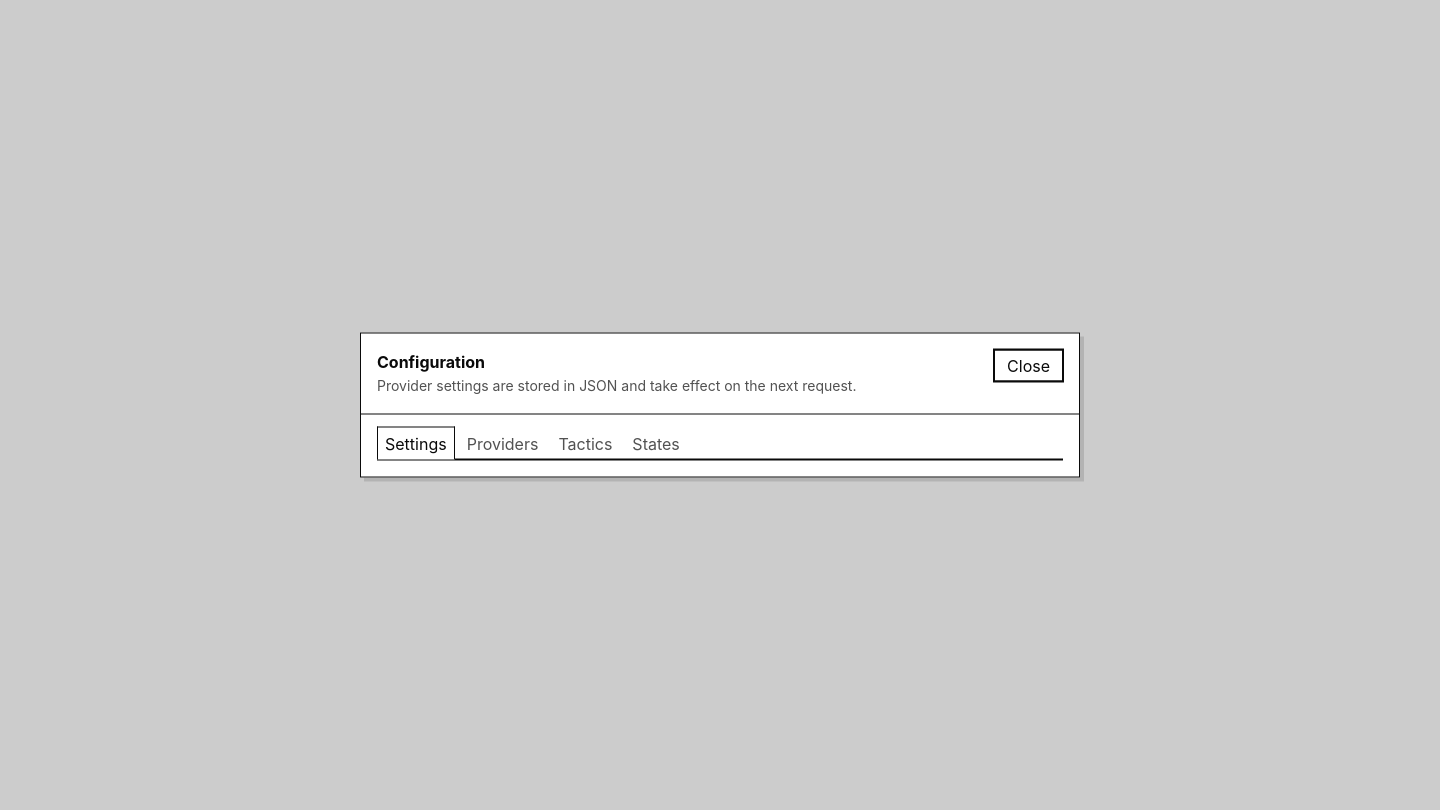
Scenario: web components › renders empty provider and tactic library states in configuration
Click the tab "Providers". click: click(503, 443)
box: x1=459 y1=426 x2=546 y2=460
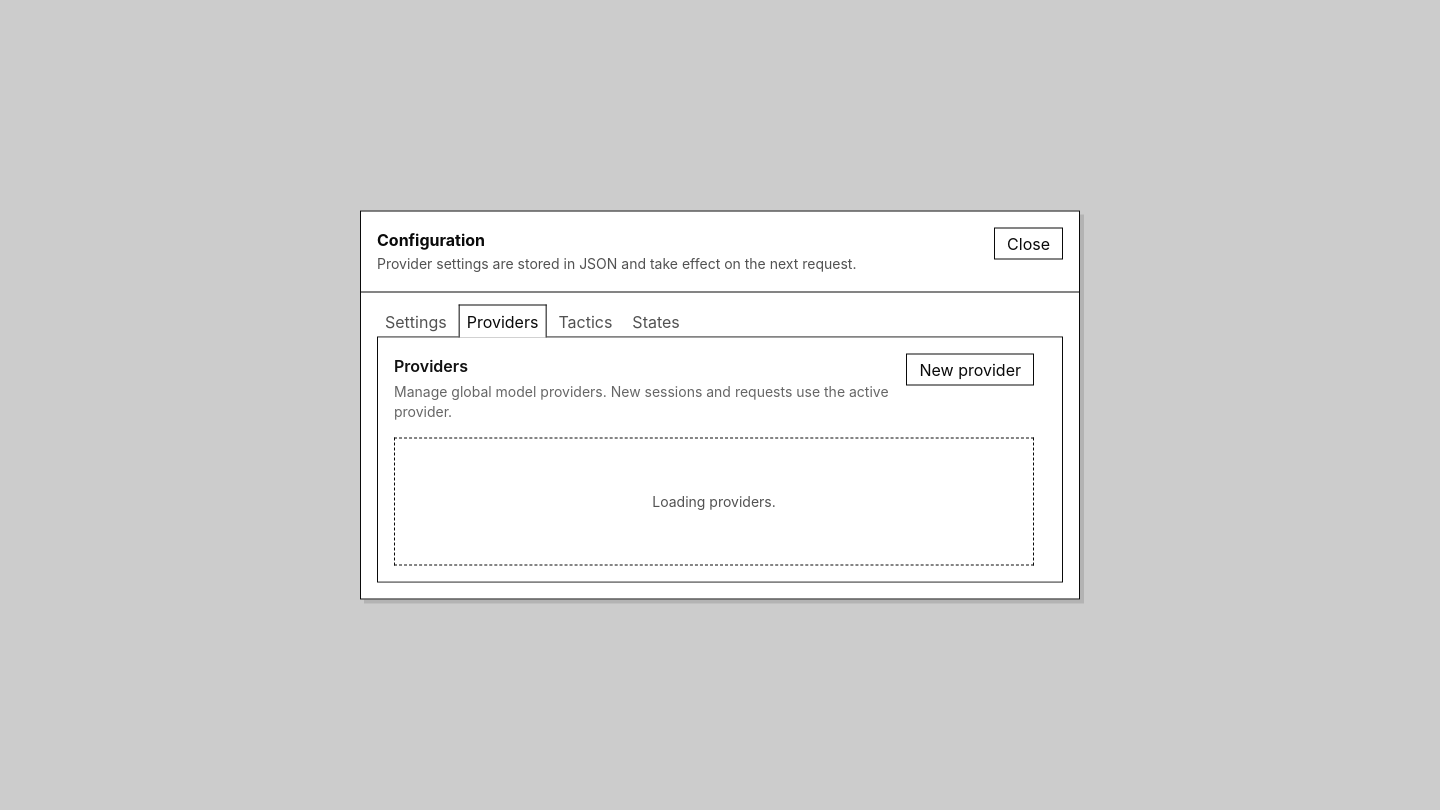
Now the text "Loading providers." is shown, box x1=394 y1=438 x2=1034 y2=566
Click the tab "Tactics". click: click(585, 321)
box: x1=550 y1=304 x2=620 y2=338
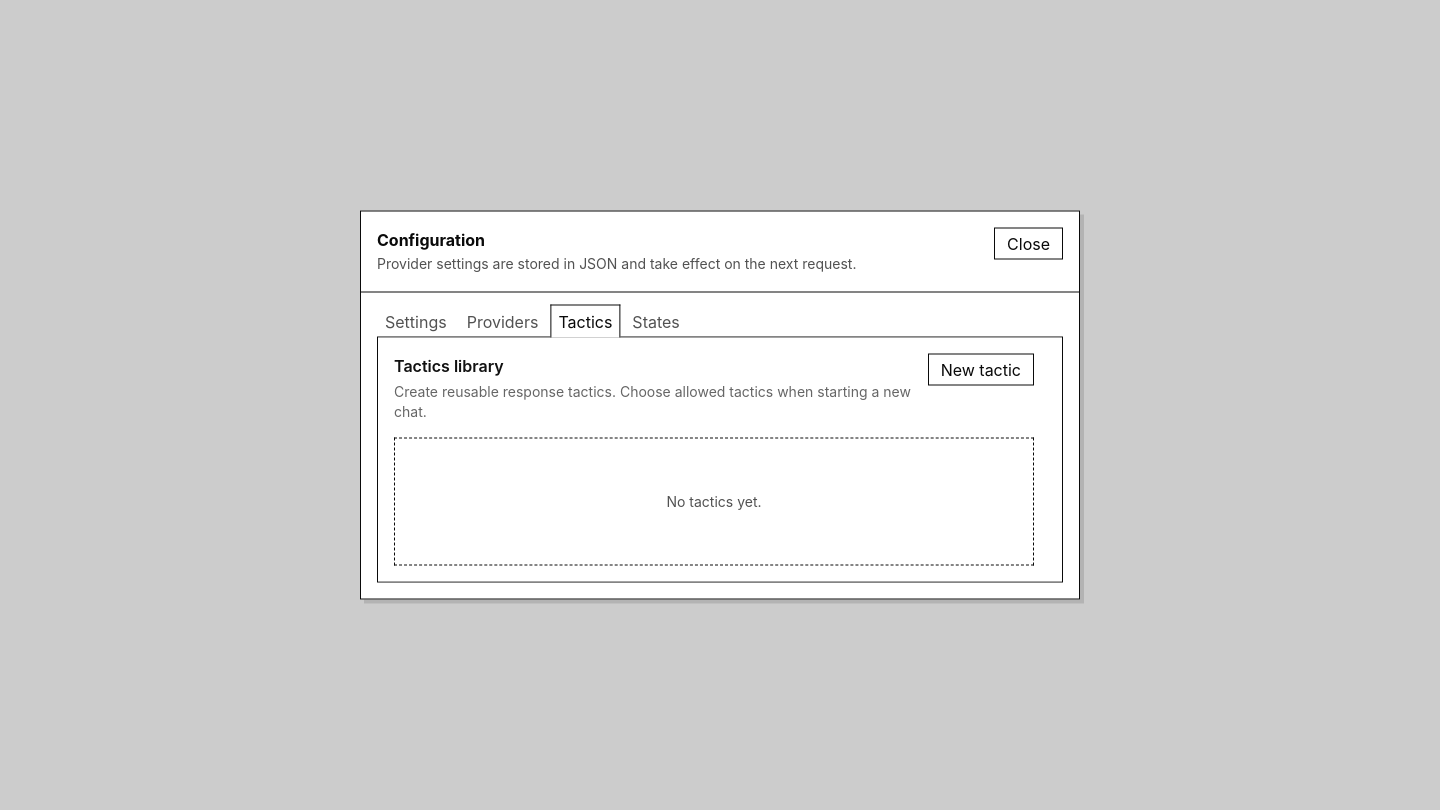
Now the text "No tactics yet." is shown, box x1=394 y1=438 x2=1034 y2=566
Click the tab "States". click: click(656, 321)
box: x1=624 y1=304 x2=688 y2=338
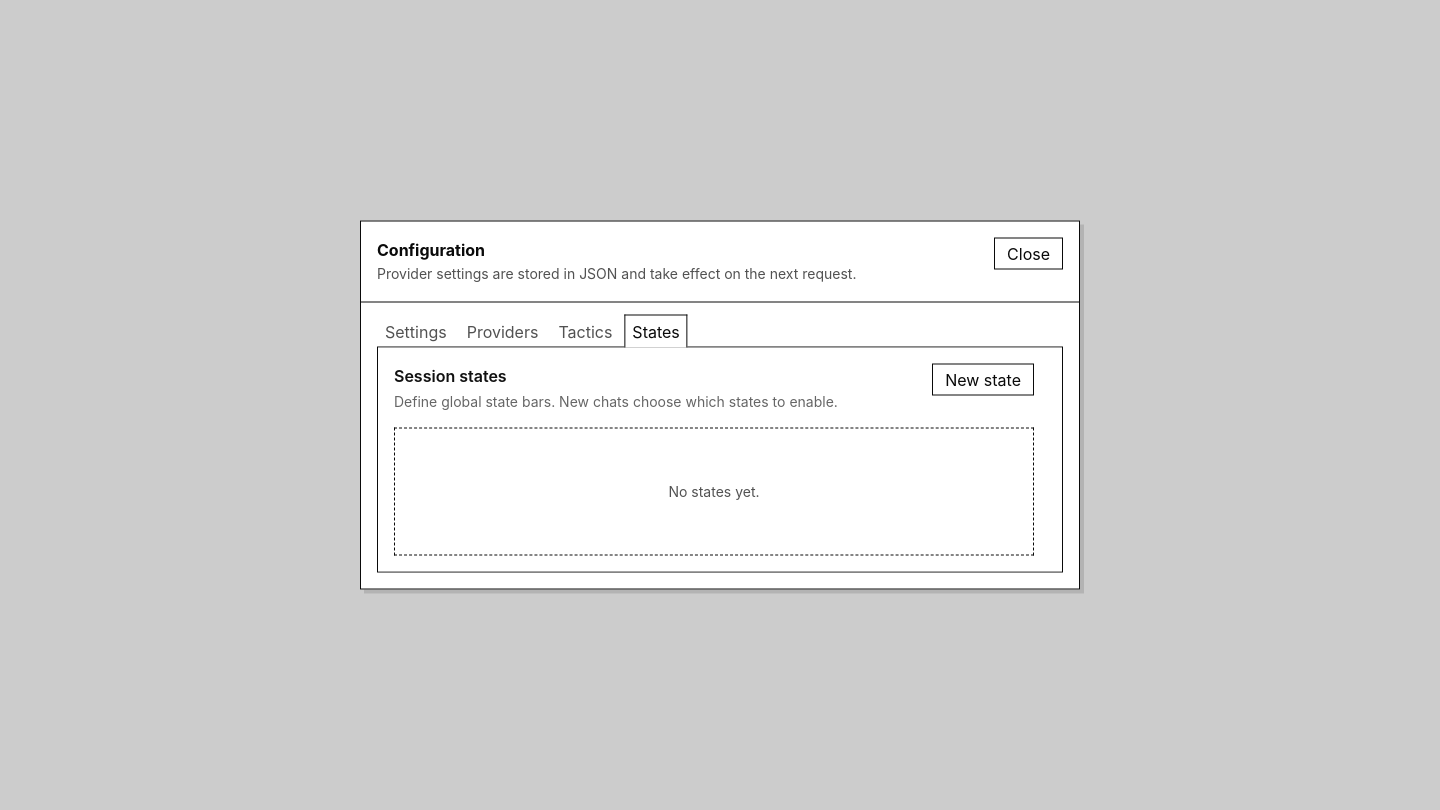
Now the text "No states yet." is shown, box x1=394 y1=428 x2=1034 y2=556
